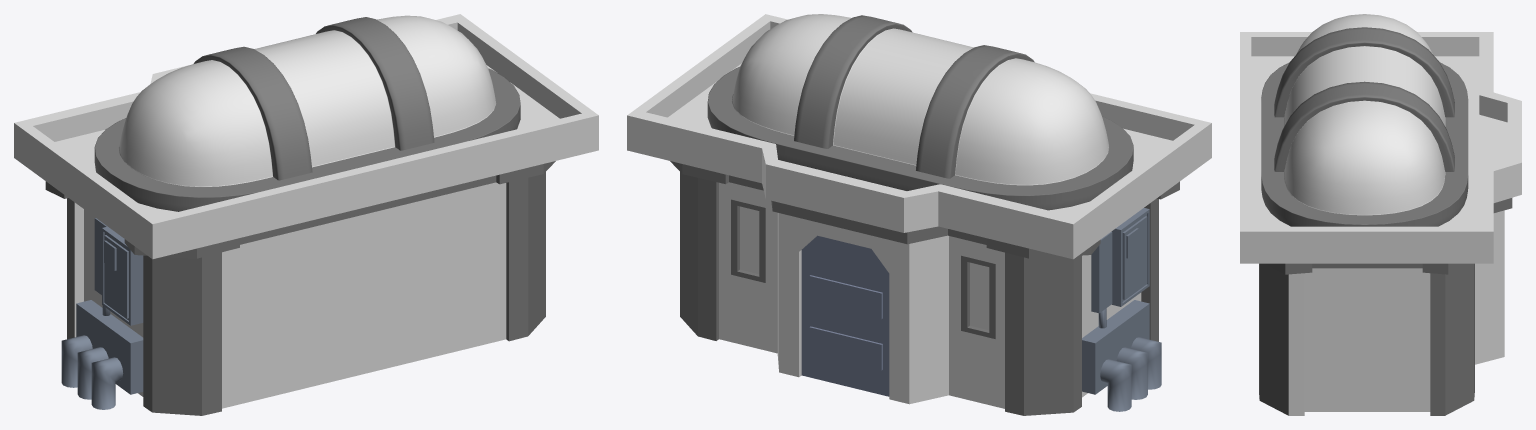
Rendered from house.fbx.
3 renders of one model, left to right at view 1: azimuth 30°, elevation 25°; view 2: azimuth 150°, elevation 25°; view 3: azimuth 270°, elevation 25°, orthographic. The views are drawn at different scales.
Parts seen in each view (by area): view 1: Cube.001; view 2: Cube.001; view 3: Cube.001.
Boxes of the visible parts, <box> form: Cube.001: <box>14,14,598,415</box>; Cube.001: <box>627,14,1211,415</box>; Cube.001: <box>1240,14,1521,415</box>.
Size of the model in its own units: 754 by 479 by 446.
